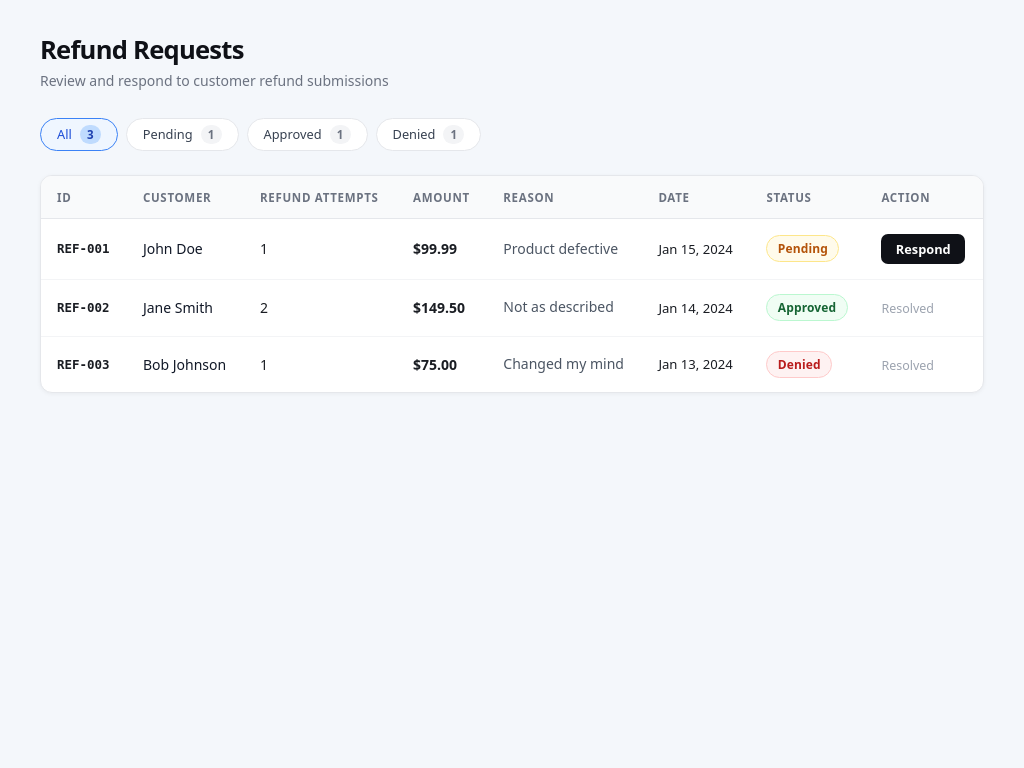
Test case: RefundsPage › submits denial with note successfully
Expected: the text "REF-001" is shown, [41,219,127,279]
Click the button "Respond": {"x": 923, "y": 249} [881,234,965,264]
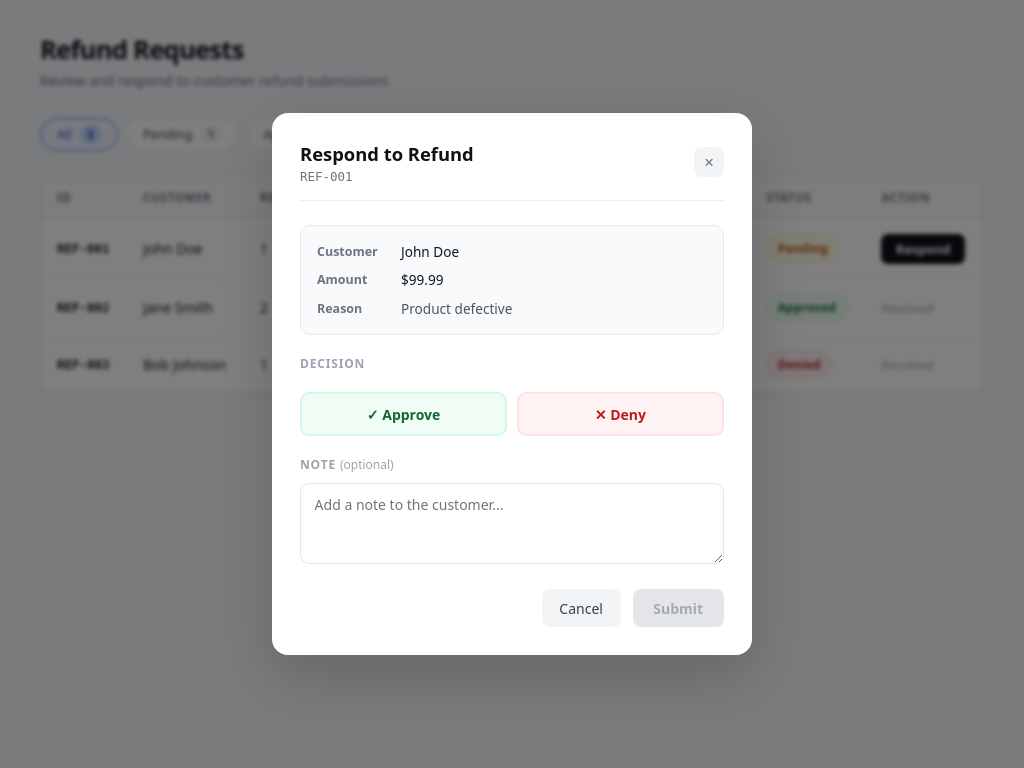
Click the button "✕ Deny": {"x": 620, "y": 414} [517,392,724,436]
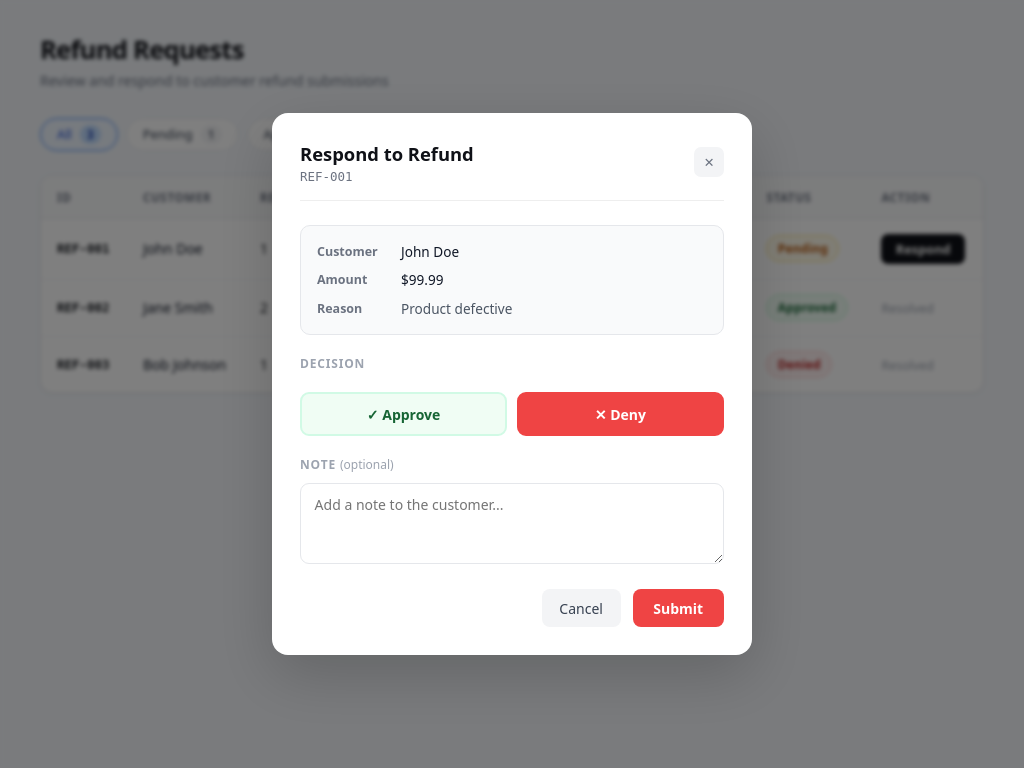
In the text box with placeholder "Add a note to the customer...": {"x": 512, "y": 524} [300,483,724,564], type "Does not meet refund policy"
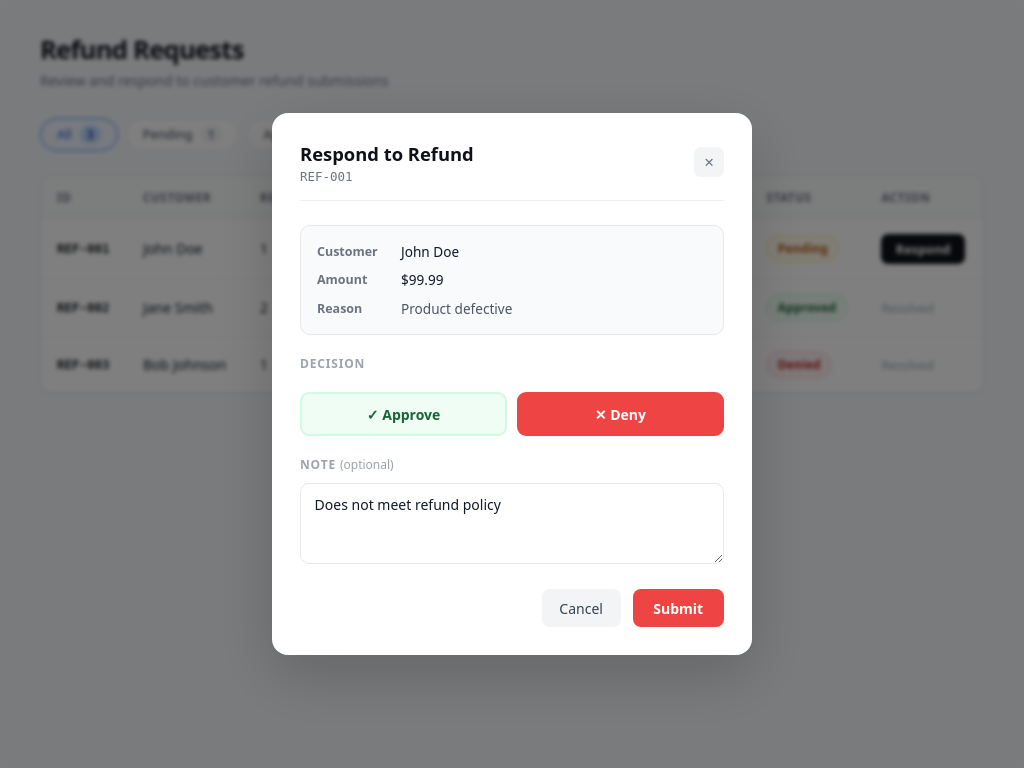
Click the button "Submit": {"x": 678, "y": 608} [632,589,724,627]
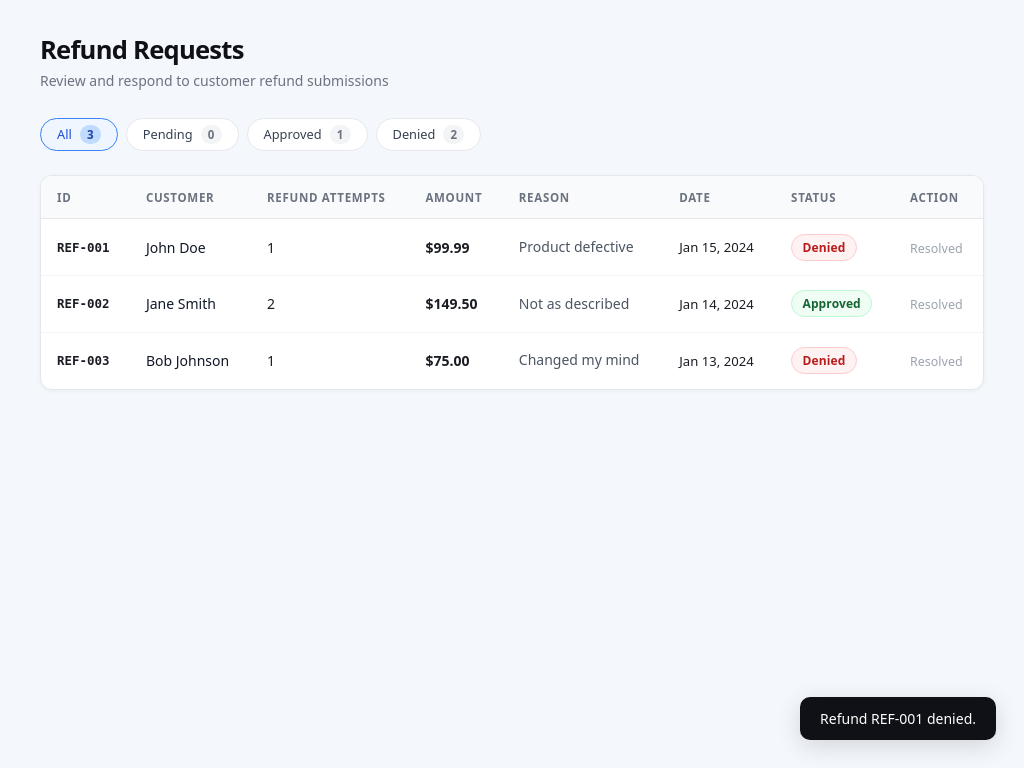
Now the text "Refund REF-001 denied." is shown, box [800,697,996,740]
